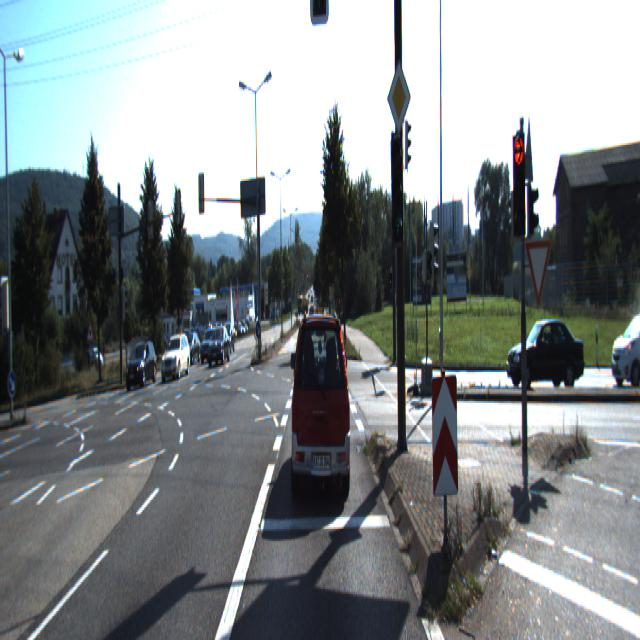Car: (290, 309, 352, 500), (505, 312, 585, 394), (612, 308, 640, 388), (125, 341, 156, 389), (160, 337, 190, 382), (206, 328, 230, 368)
